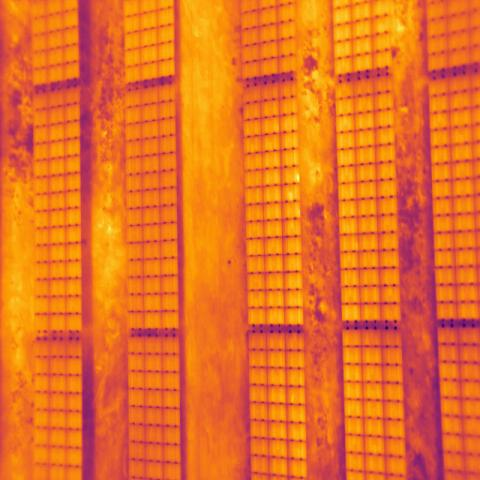fault: (280, 166, 301, 202)
